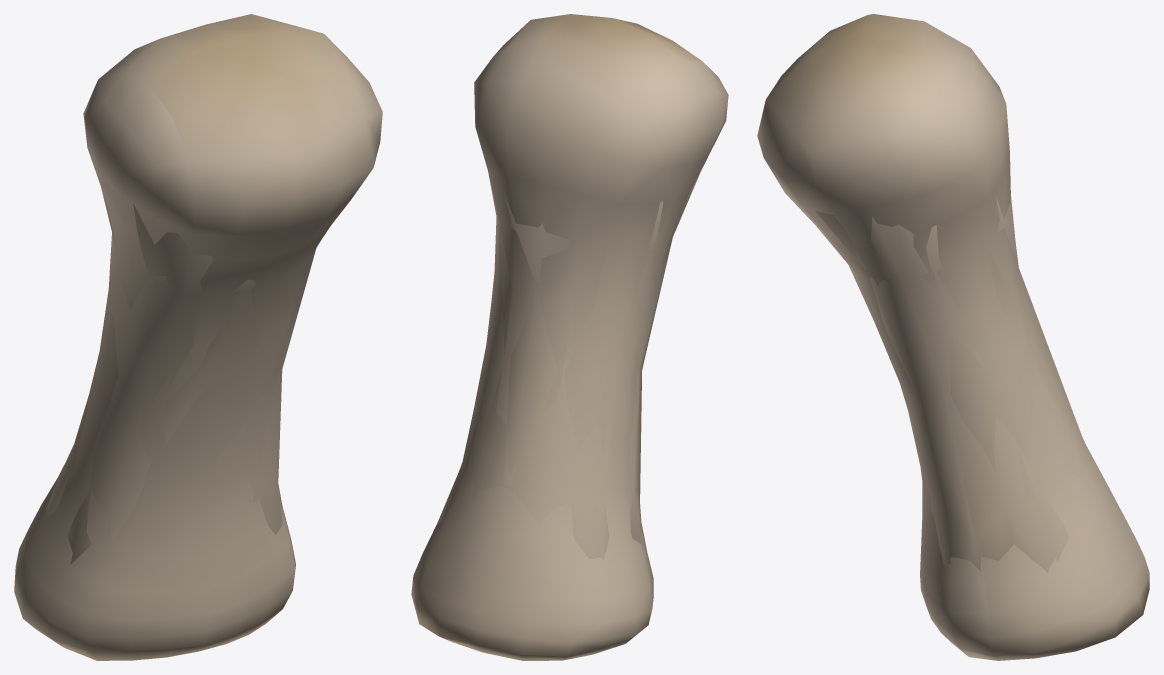
Rendered from vertebrae caudales 09.fbx.
3 views of the same model, side by side, from view 1: azimuth 30°, elevation 25°; view 2: azimuth 150°, elevation 25°; view 3: azimuth 270°, elevation 25° (orthographic). The views are drawn at different scales.
Parts seen in each view (by area): view 1: vertebrae caudales 09, vertebrae caudales 09 low; view 2: vertebrae caudales 09, vertebrae caudales 09 low; view 3: vertebrae caudales 09, vertebrae caudales 09 low.
Boxes of the visible parts, x1,y1,x2,y2 form: vertebrae caudales 09: [14, 14, 382, 660]; vertebrae caudales 09 low: [44, 195, 329, 564]; vertebrae caudales 09: [411, 14, 728, 660]; vertebrae caudales 09 low: [436, 158, 706, 560]; vertebrae caudales 09: [757, 14, 1149, 660]; vertebrae caudales 09 low: [815, 194, 1089, 572].
Size of the model in its own units: 1.45 by 3.54 by 2.14.
Materials: 1 (1 with a texture image).
